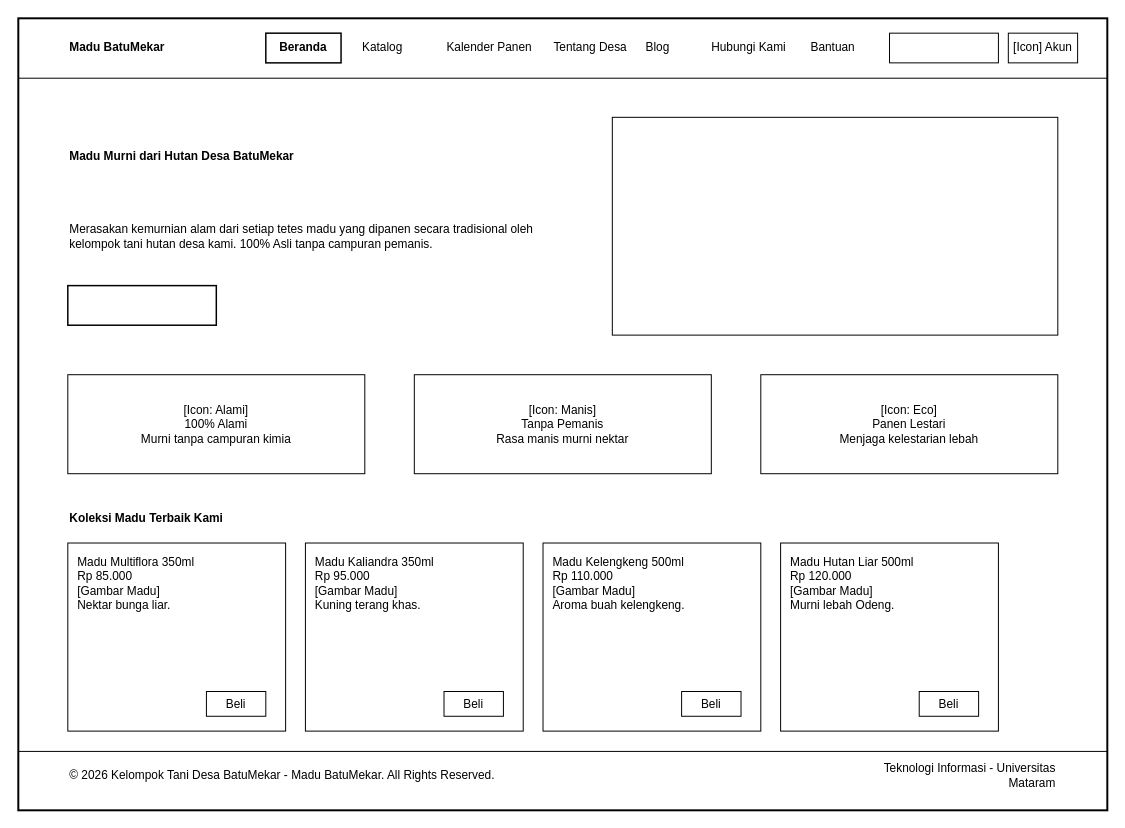
Some shapes in this 1125 by 828 pixel diagram are drawn without their labels. Here are the shapes that lost their labels. From the top down, the centre of each, then its label:
At (943,47): "[Icon] Keranjang (2)".
At (834,225): "[ Gambar Hero - Lebah & Hutan Desa BatuMekar ]".
At (142,305): "Belanja Sekarang".
